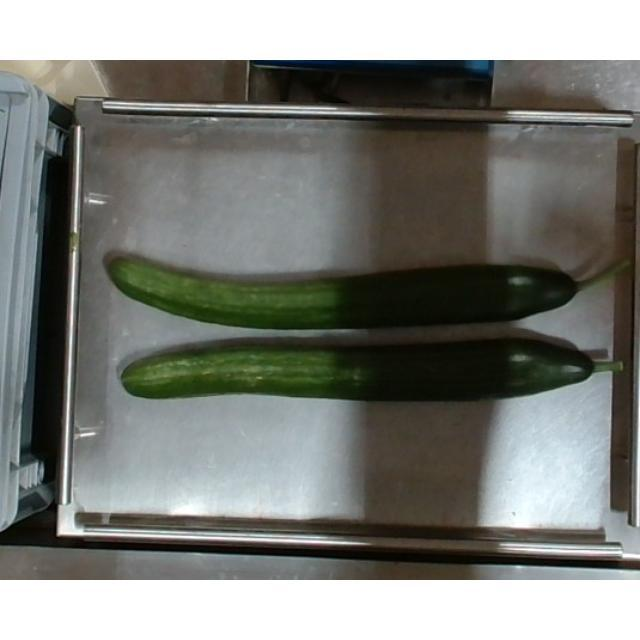cucumber: (106, 245, 634, 332), (119, 338, 622, 404)
